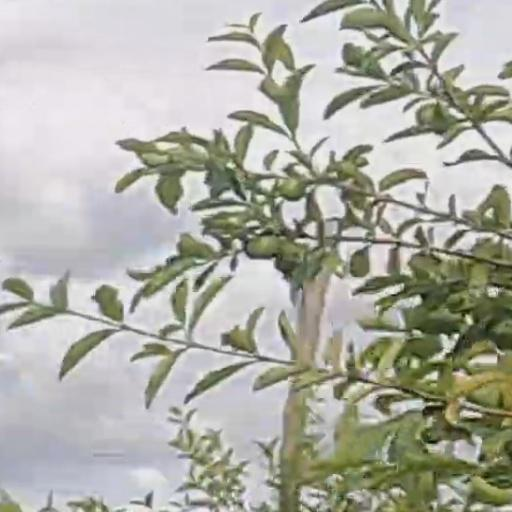acerola: (244, 236, 278, 257), (281, 178, 302, 199)
